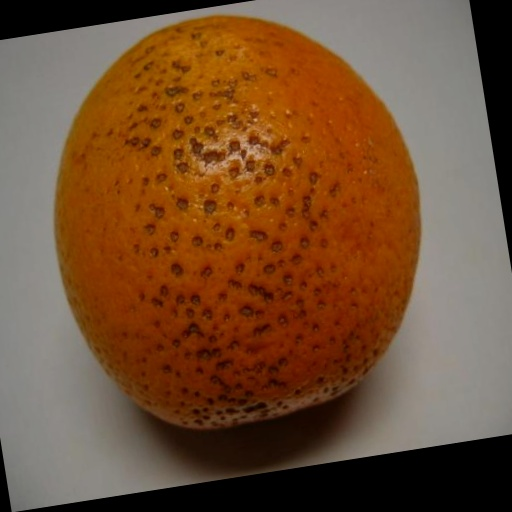fruit: (55, 16, 420, 428)
